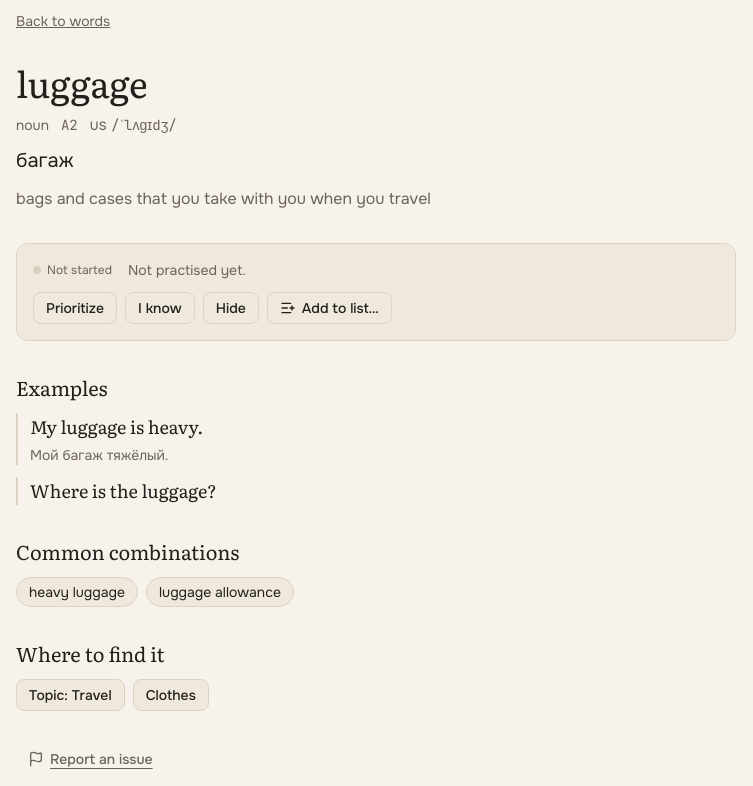
it: the word page (B6.8) › Prioritize changes at once, names the word by slug and is announced
Click the button "Prioritize": (75, 308) 33,292 -> 117,324
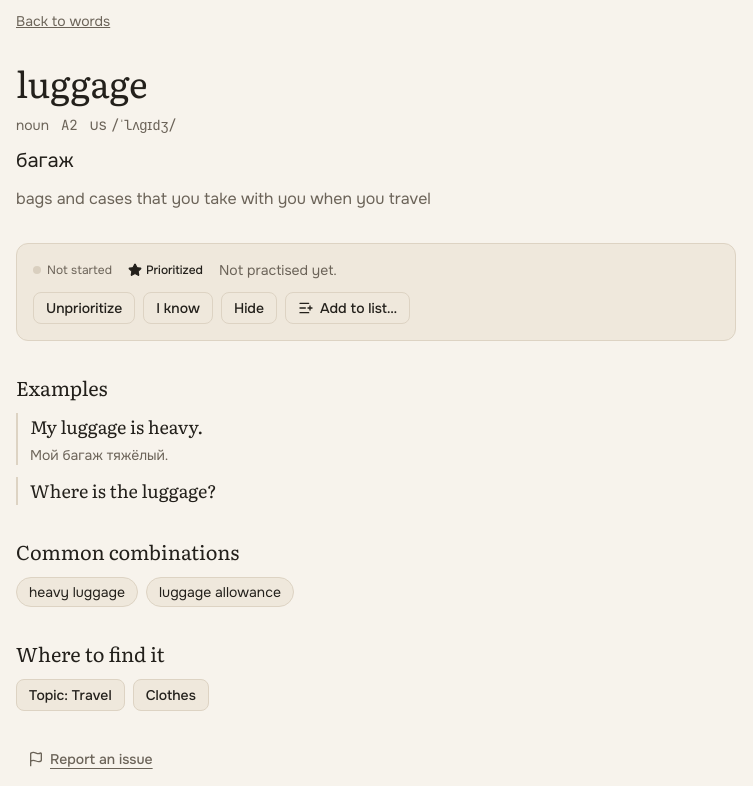
Now the text "Prioritized" is shown, box 128,262 -> 203,278
